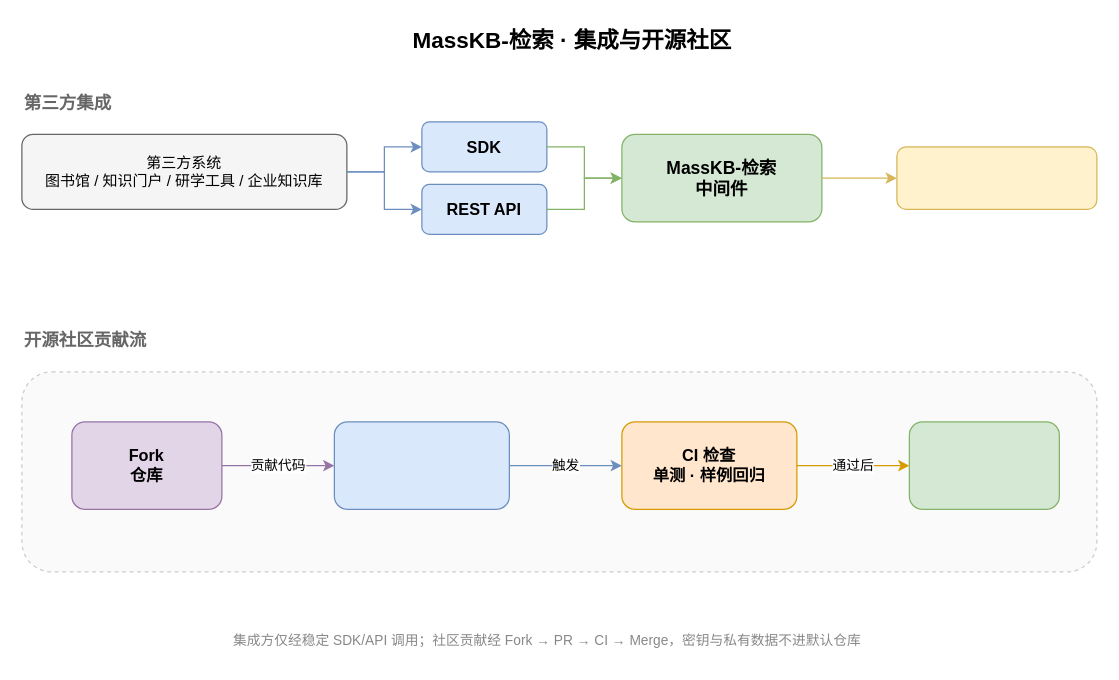
Image size: 1119x680. Some labels were removed from this diagram. Each missing label, with the centre of its shape:
Merge 合入主线: (983,465)
Qdrant · Neo4j · LLM: (996,177)
提交 PR Pull Request: (421,465)
